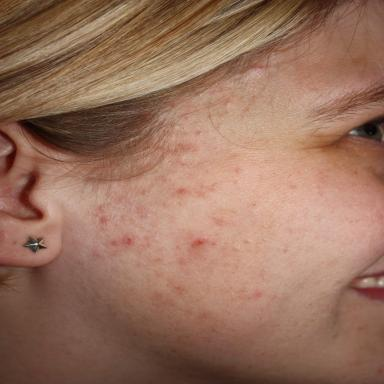acne: (193, 239, 206, 246), (123, 236, 133, 245), (177, 188, 188, 194), (100, 217, 107, 223)
